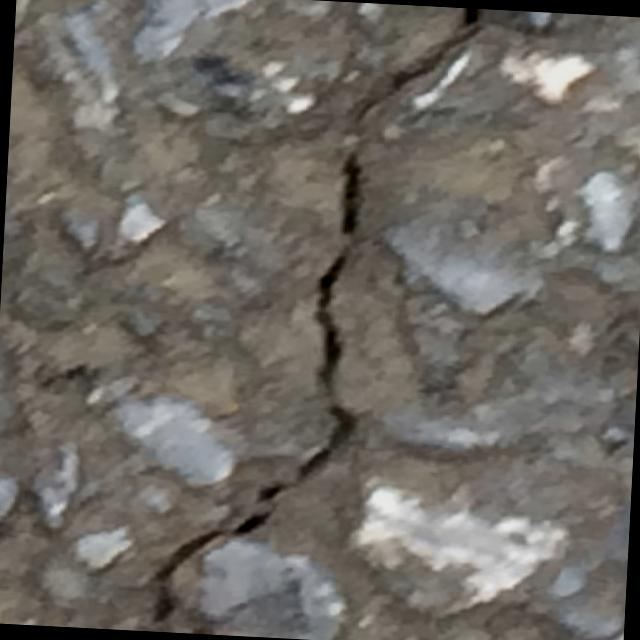crack: (145, 0, 482, 637)
